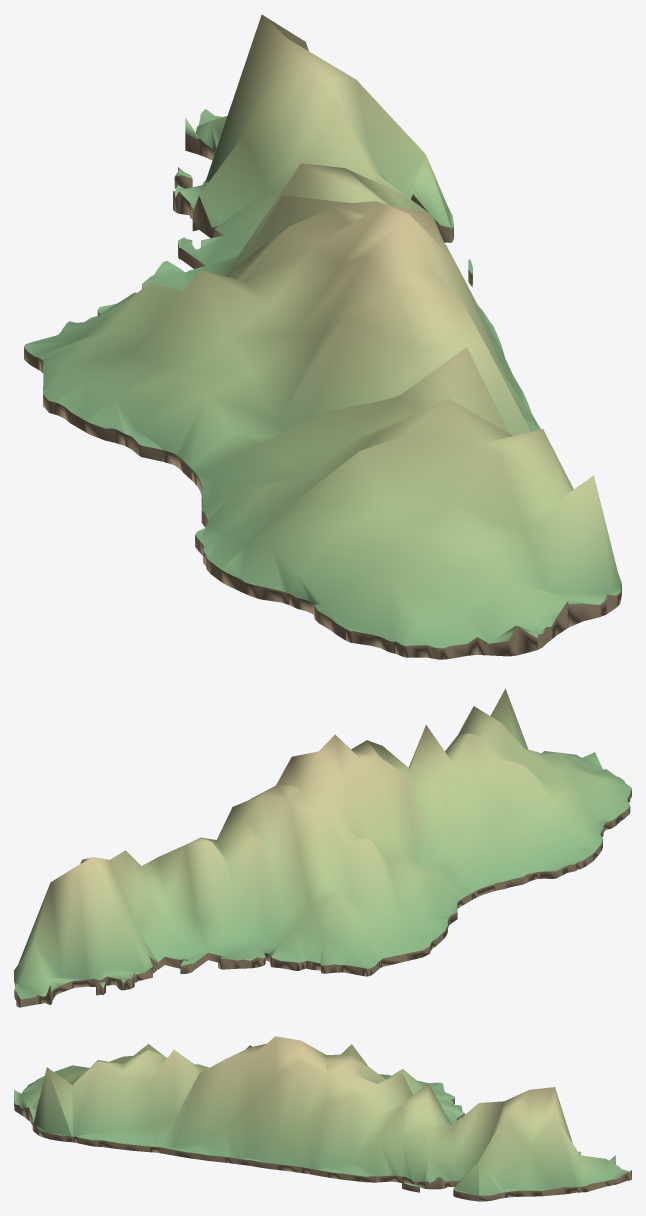
Rendered from MDG.glb.
The picture shows the model from 3 angles, top to bottom: view 1: azimuth 30°, elevation 25°; view 2: azimuth 150°, elevation 25°; view 3: azimuth 270°, elevation 25°; orthographic projection. The views are drawn at different scales.
Visible parts, largest first — view 1: MDG; view 2: MDG; view 3: MDG.
Part boxes in pixels (bbox=[...]): MDG: bbox=[24, 14, 621, 659]; MDG: bbox=[14, 688, 631, 1007]; MDG: bbox=[14, 1036, 631, 1201].
Size of the model in its own units: 0.9033 by 0.338 by 1.78.
